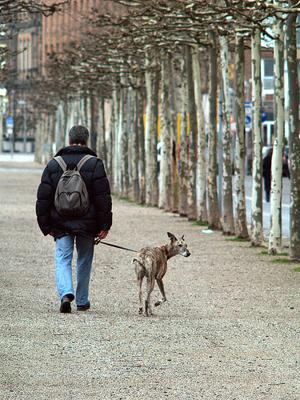person: (34, 125, 111, 312)
